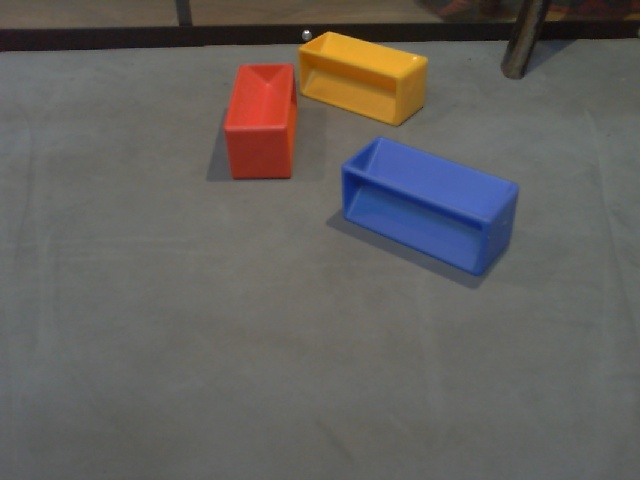BlueSample: (339, 135, 523, 279)
RedSample: (222, 62, 300, 181)
YellowSample: (293, 27, 433, 128)
